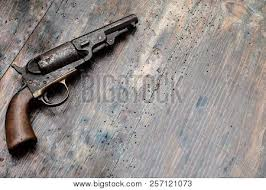gun: (3, 14, 140, 152)
